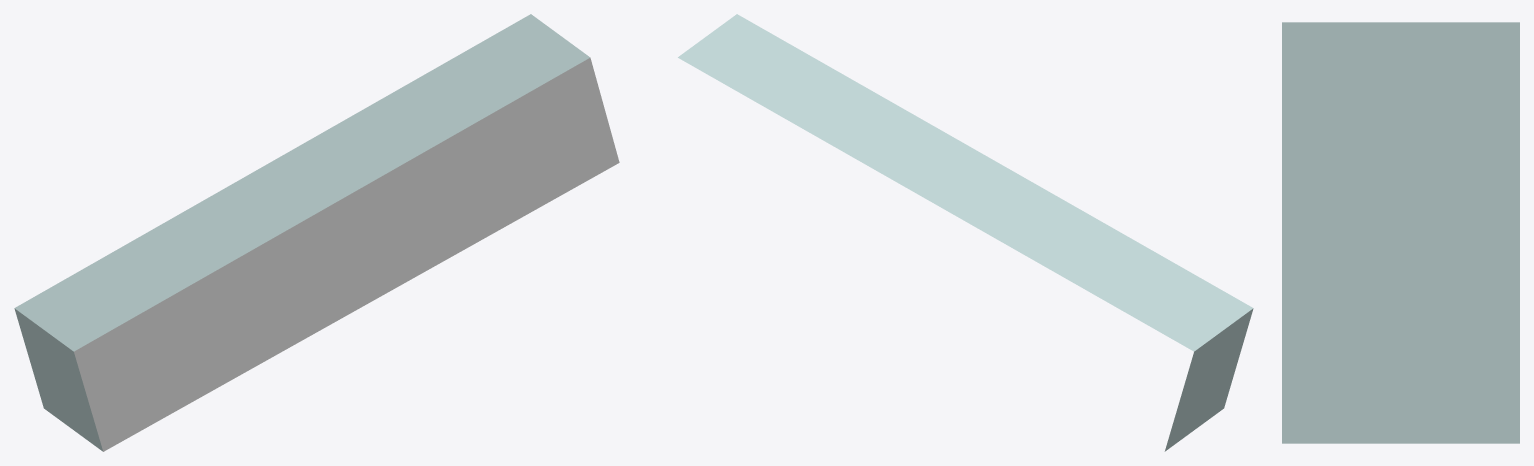
3 renders of one model, left to right at view 1: azimuth 30°, elevation 25°; view 2: azimuth 150°, elevation 25°; view 3: azimuth 270°, elevation 25°, orthographic. The views are drawn at different scales.
Parts seen in each view (by area): view 1: 0_2_2_3_1_2_2_3_1; view 2: 0_2_2_3_1_2_2_3_1; view 3: 0_2_2_3_1_2_2_3_1.
Boxes of the visible parts, x1,y1,x2,y2 form: 0_2_2_3_1_2_2_3_1: [14, 14, 619, 451]; 0_2_2_3_1_2_2_3_1: [678, 14, 1253, 451]; 0_2_2_3_1_2_2_3_1: [1282, 22, 1519, 443].
Bounding box in the file's own units: 15.89 × 7.67 × 3.
